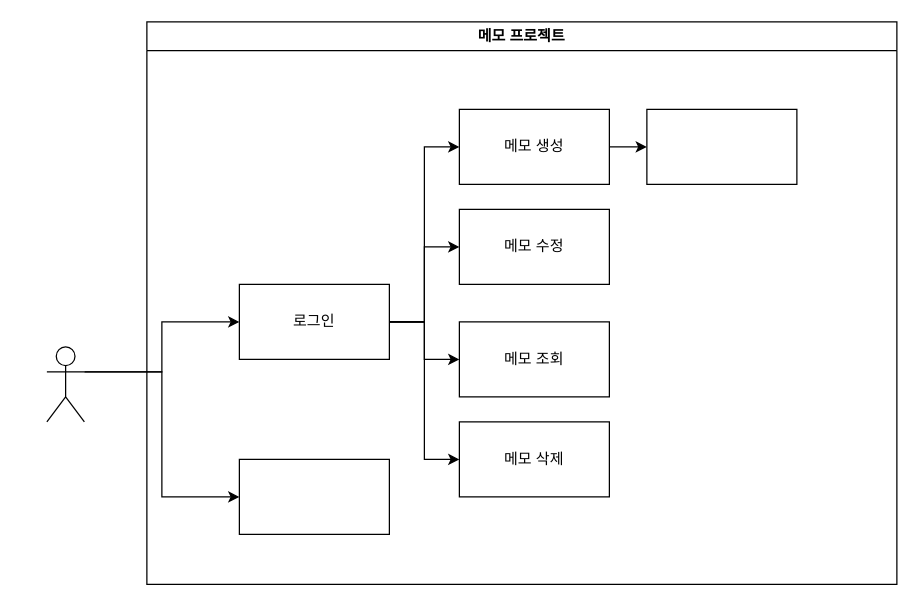
The diagram is 919 pixels wide and 606 high, and some of its shapes have lost their labels. Each missing label, with the centre of its shape:
"Client ( 유저 )" belongs at [65,384].
"미래에 보낼수 있는 메모 생성" belongs at [721,146].
"회원가입" belongs at [313,496].
